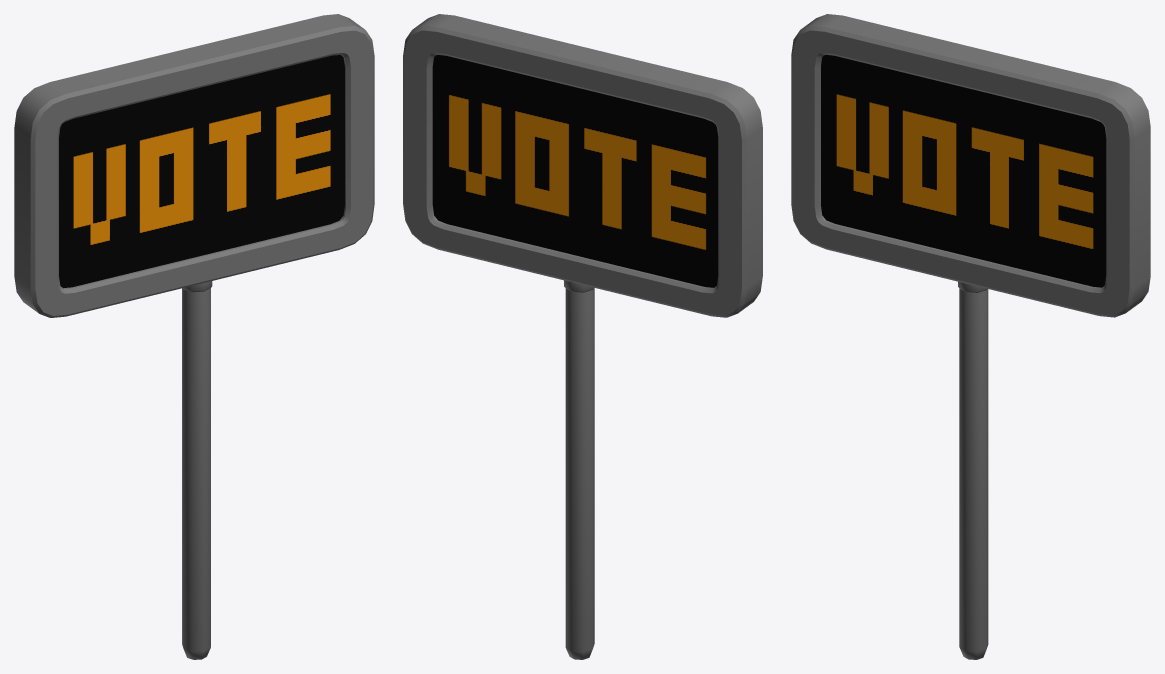
Rendered from RektSign.fbx.
3 views of the same model, side by side, from view 1: azimuth 30°, elevation 25°; view 2: azimuth 150°, elevation 25°; view 3: azimuth 330°, elevation 25° (orthographic).
Parts seen in each view (by area): view 1: Vote_sign; view 2: Vote_sign; view 3: Vote_sign.
Boxes of the visible parts, x1,y1,x2,y2 form: Vote_sign: (14, 14, 374, 659); Vote_sign: (403, 14, 762, 659); Vote_sign: (791, 14, 1150, 659).
Size of the model in its own units: 6.06 by 10.19 by 0.601.
